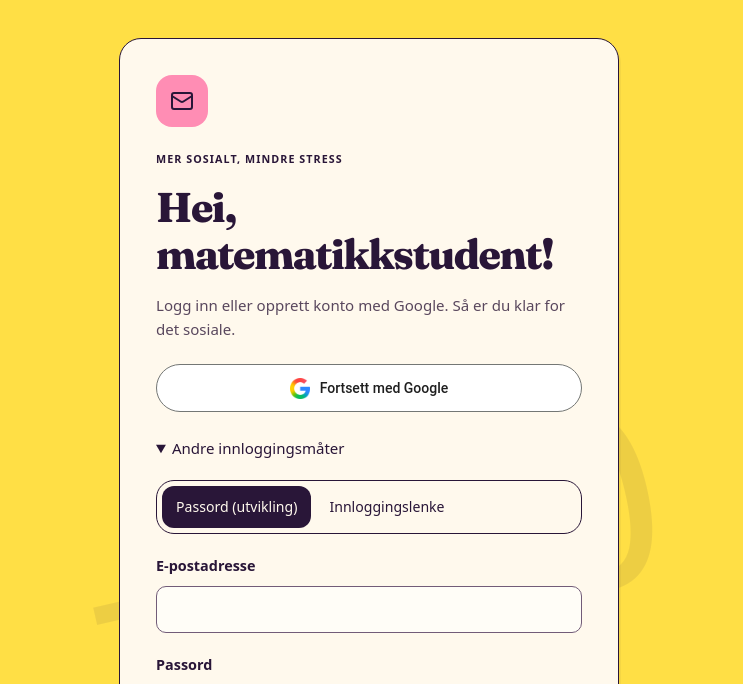
Test: development-only password sign-in › keeps unconfirmed users blocked and points to the per-user Dashboard action
Type "student@example.test" into the field labelled "E-postadresse".
click(369, 609); type("student@example.test")  # box [156, 586, 582, 633]
(page scrolled)
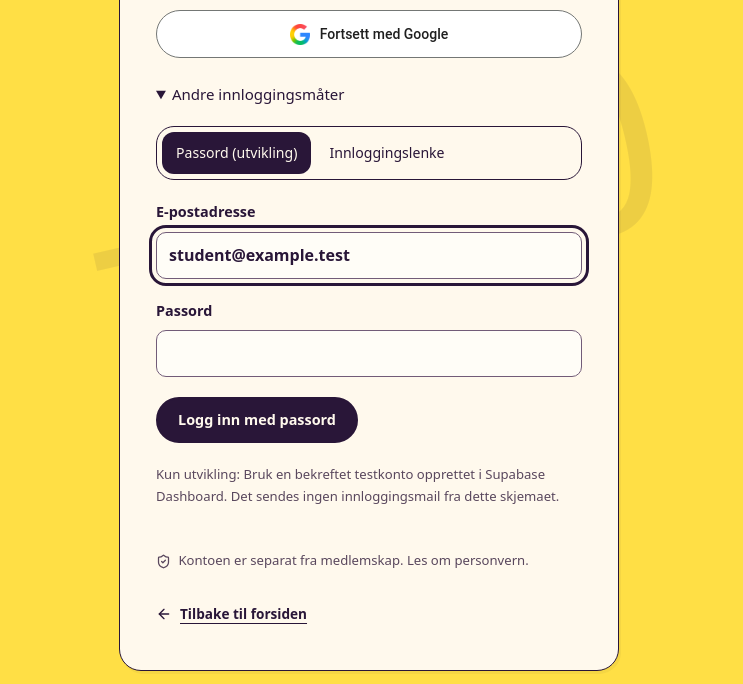
Type "local-test-password" into the password field labelled "Passord".
click(369, 353); type("local-test-password")  # box [156, 330, 582, 377]
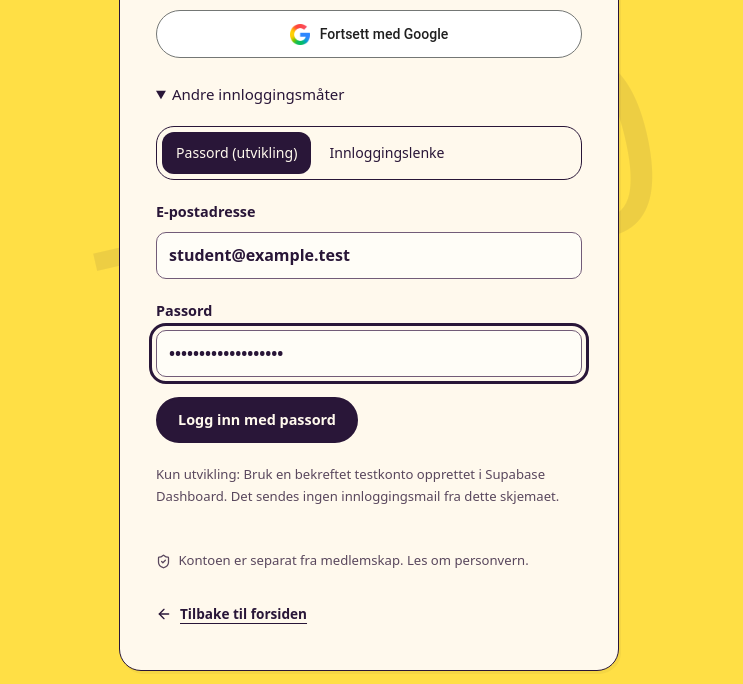
Click the button "Logg inn med passord".
click(257, 420)  # box [156, 397, 358, 443]
(page scrolled)
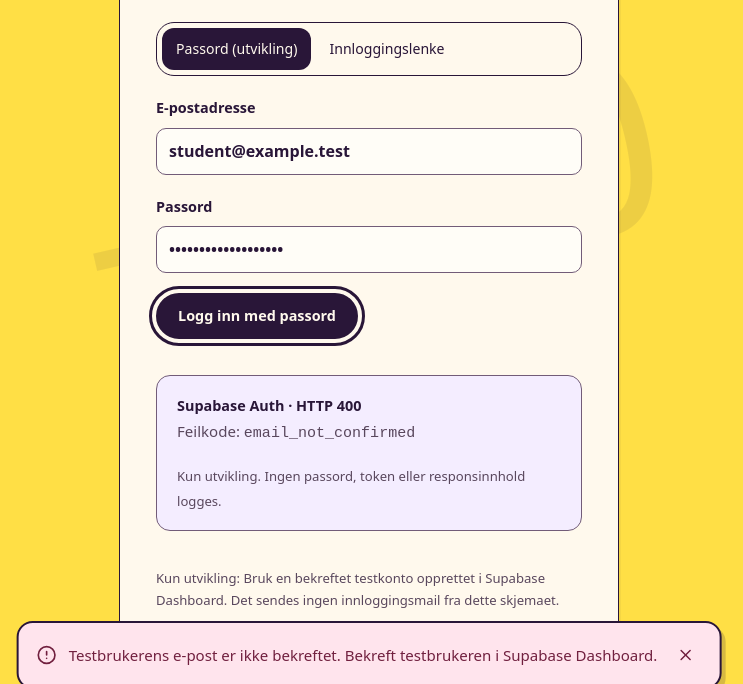
expect the 2nd message shows "Testbrukerens e-post er ikke bekreftet": met, box [69, 645, 657, 665]
expect the message named "Supabase Auth-diagnostikk" shows "email_not_confirmed": met, box [244, 424, 415, 442]
